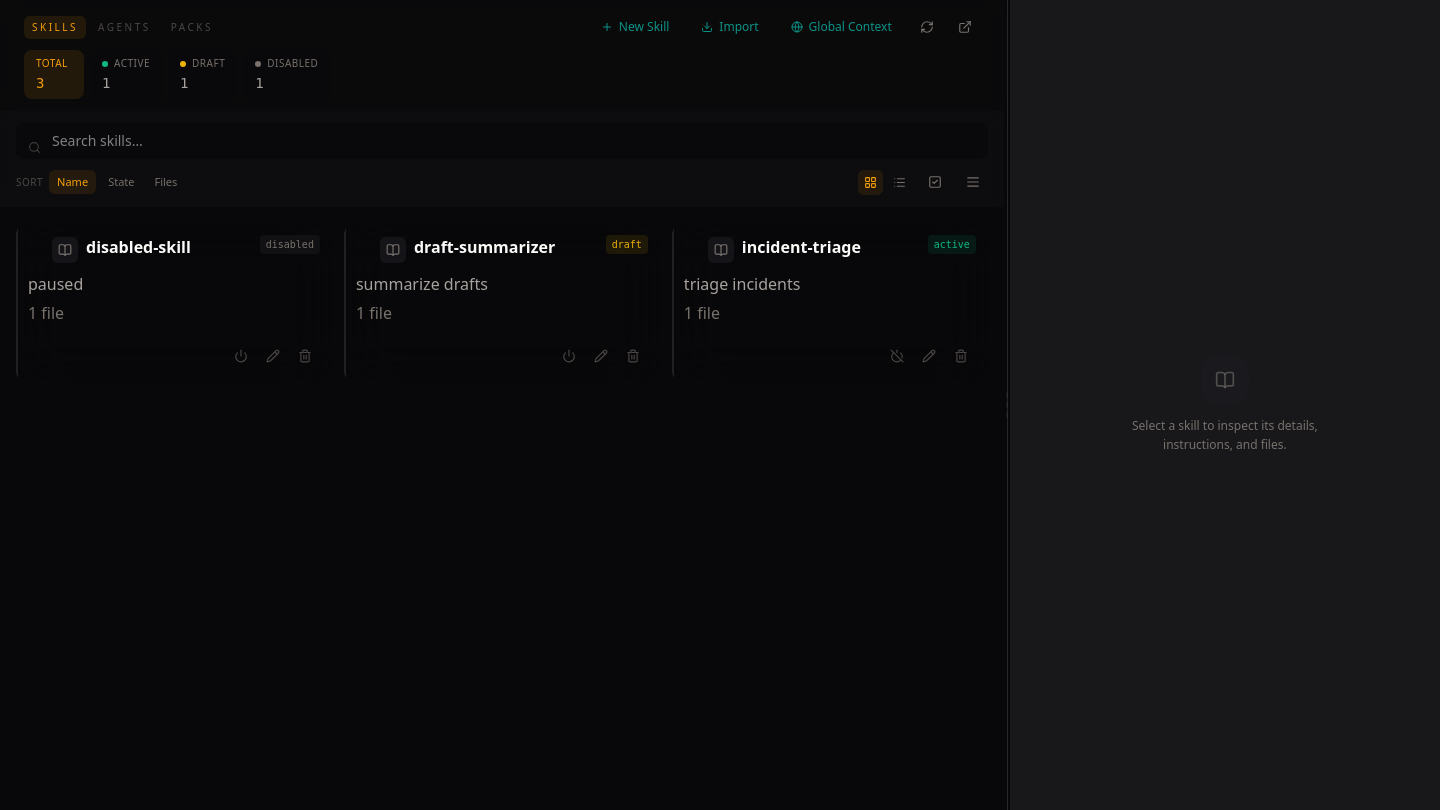
Test: LibraryWorkspace › inspector pane › opens the inspector and sets ?selected= when a card is clicked
Step 1. Click the text "incident-triage" → click(801, 247), box [742,236,861,258]
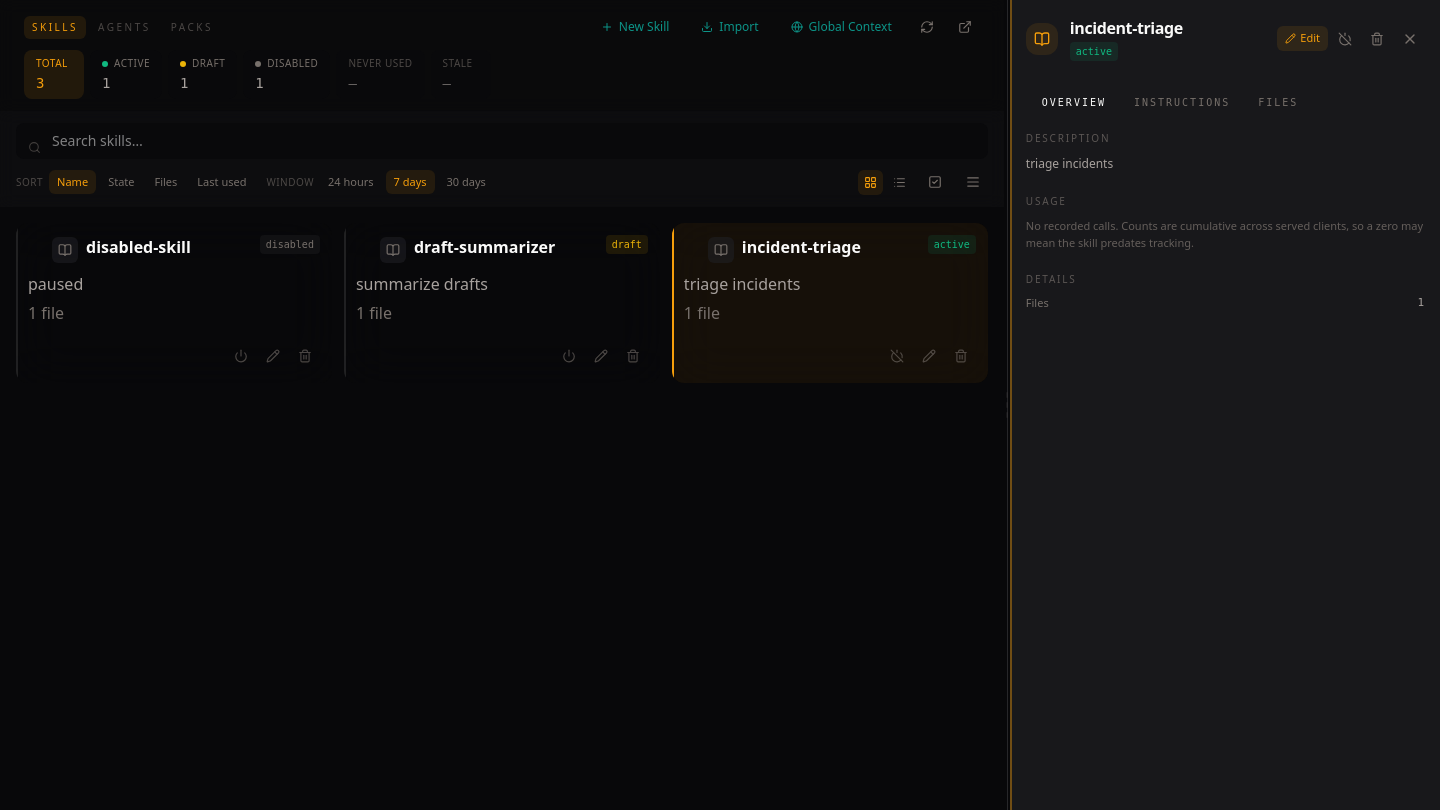
expect the heading "incident-triage" is shown: met, box [1070,16,1183,40]
